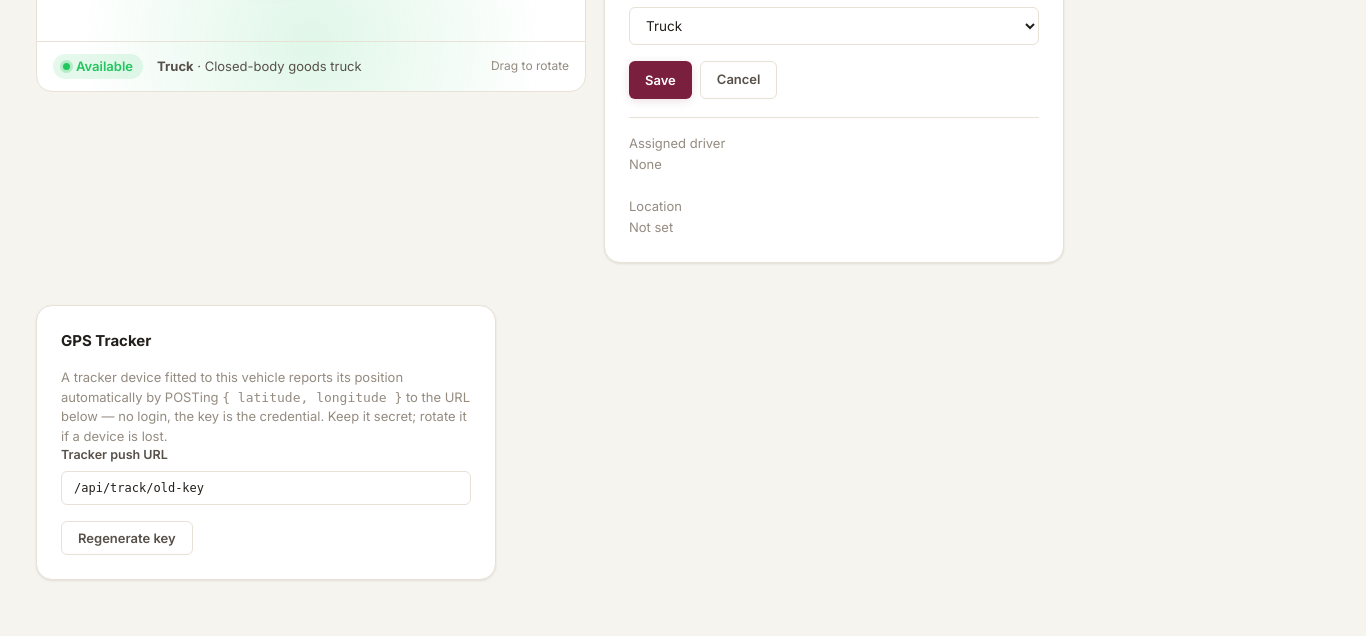
Scenario: VehicleDetail page › regenerates the tracker key and shows the new URL
(page scrolled)
Expected: the field labelled "Tracker push URL" is shown, [61,471,471,505]
Step 1. Click the button "Regenerate key" → (127, 538), box [61,521,193,555]
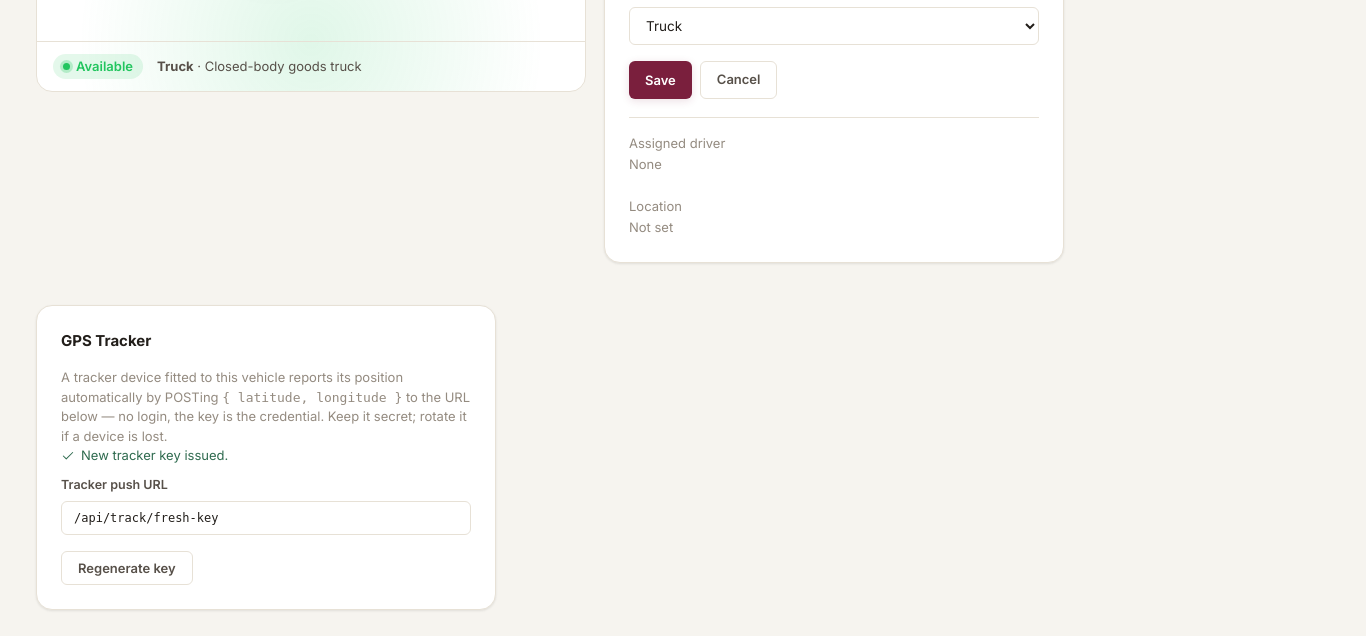
Now the field labelled "Tracker push URL" holds "/api/track/fresh-key", box [61,500,471,534]
